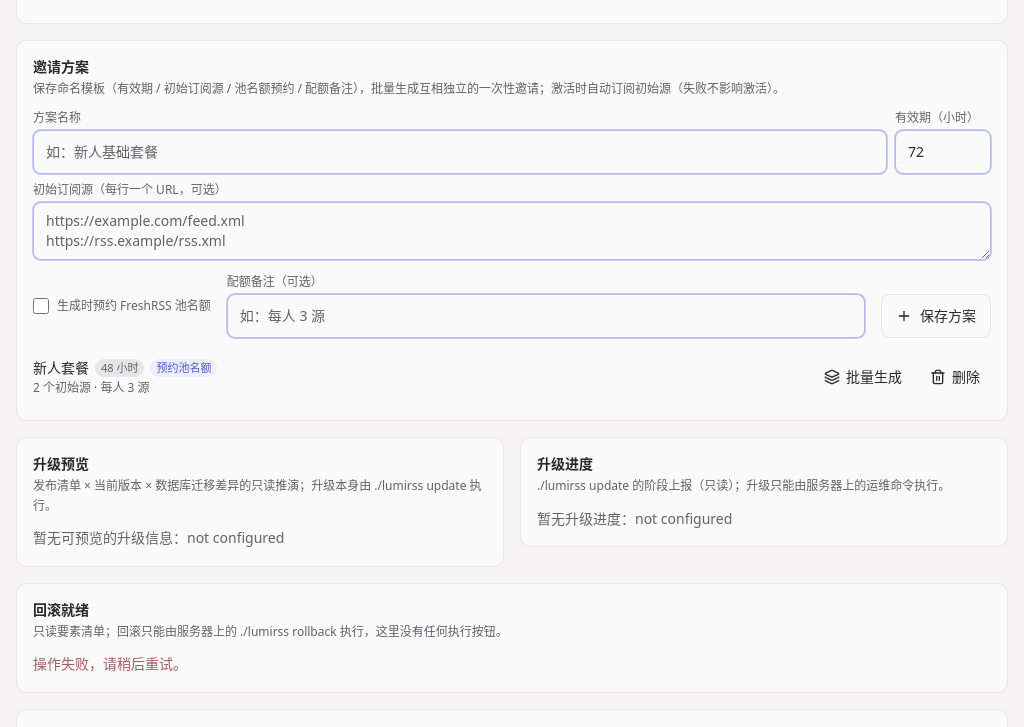
Test: 邀请方案（N001） › 池不足的批量生成（pool_empty）→ 对话框内诚实报错
(page scrolled)
Expected: the list with test id "scheme-list" is shown, [33, 350, 991, 404]
What coordinates should you click on to do the following:
click the button with test id "scheme-generate-s1"
I would click on:
 (863, 377)
Its box is [813, 361, 913, 393].
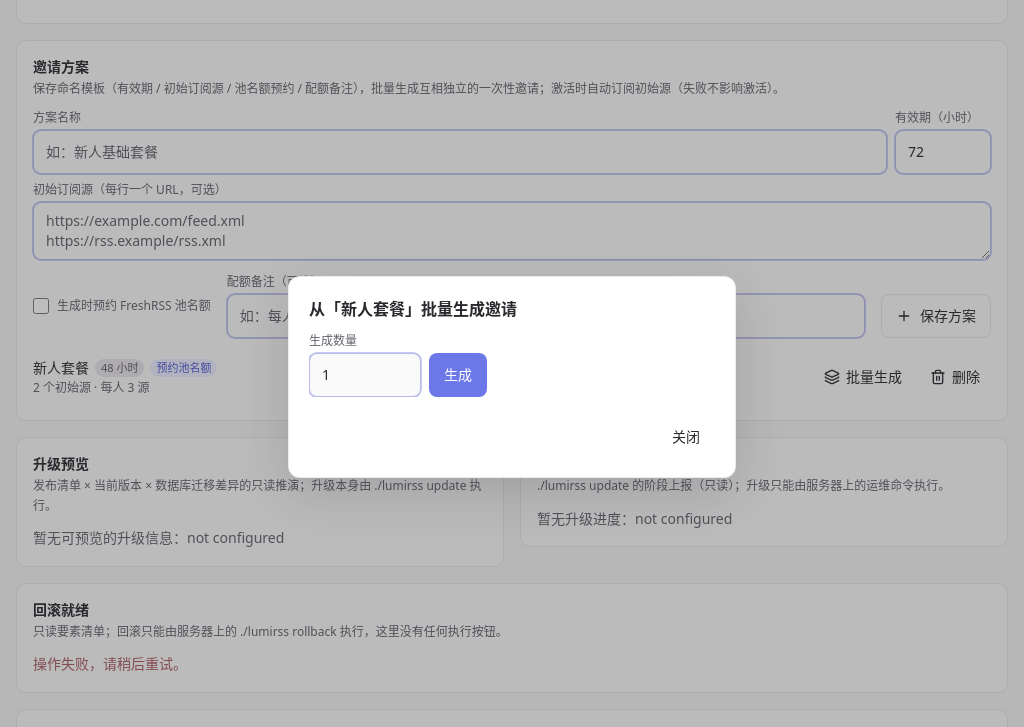
What coordinates should you click on to do the following:
click the button "生成"
I would click on:
 (458, 375)
Its box is [429, 353, 487, 397].
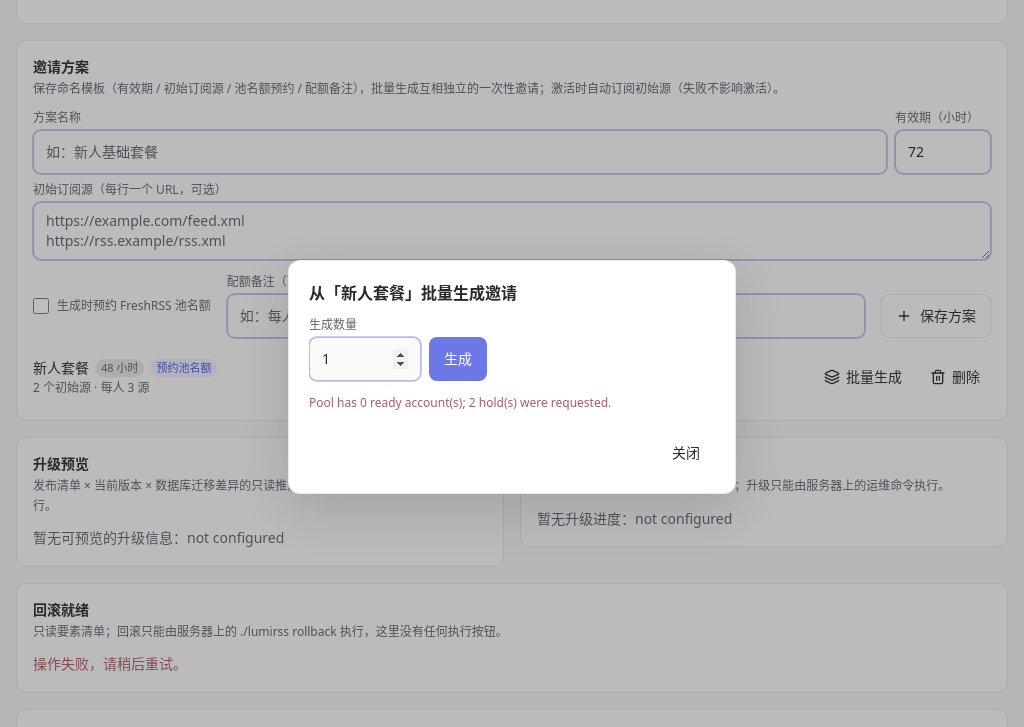
Now the message shows "ready account", box [309, 394, 611, 411]
